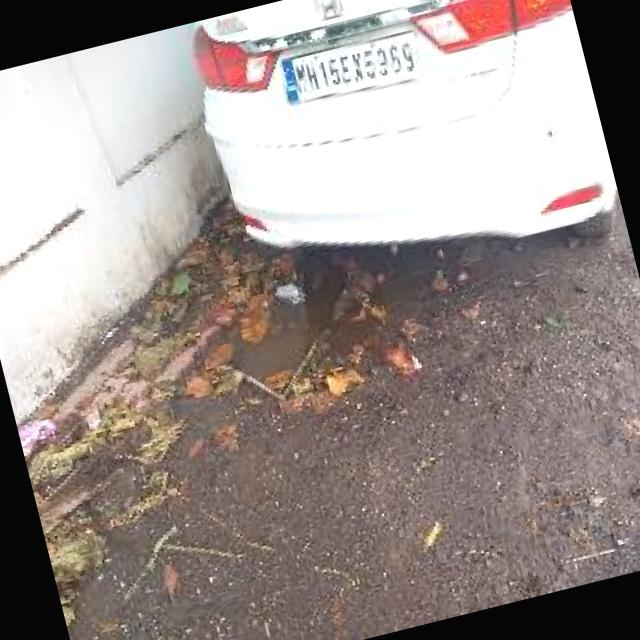waterlogging: (208, 265, 428, 404)
